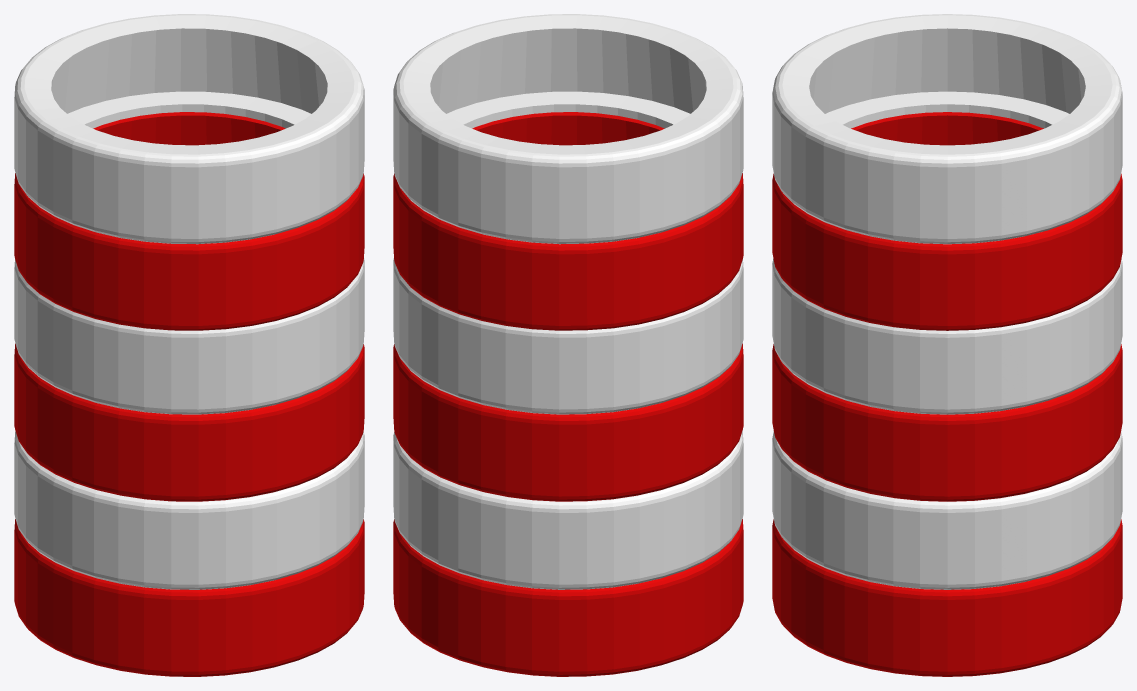
File: tiredecoration.fbx
3 views of the same model, side by side, from view 1: azimuth 30°, elevation 25°; view 2: azimuth 150°, elevation 25°; view 3: azimuth 270°, elevation 25° (orthographic).
Parts seen in each view (by area): view 1: Cube.004, Cube.005, Cube.001, Cube.003, Cube, Cube.002; view 2: Cube.004, Cube.005, Cube.001, Cube.003, Cube, Cube.002; view 3: Cube.004, Cube.005, Cube.001, Cube, Cube.003, Cube.002.
Boxes of the visible parts, left/top/right/bottom form: Cube.004: left=14, top=14, right=364, bottom=244; Cube.005: left=14, top=112, right=364, bottom=330; Cube.001: left=14, top=431, right=364, bottom=589; Cube.003: left=14, top=343, right=364, bottom=501; Cube: left=14, top=519, right=364, bottom=676; Cube.002: left=14, top=258, right=364, bottom=414; Cube.004: left=393, top=14, right=743, bottom=244; Cube.005: left=393, top=112, right=743, bottom=330; Cube.001: left=393, top=431, right=743, bottom=589; Cube.003: left=393, top=343, right=743, bottom=501; Cube: left=393, top=519, right=743, bottom=676; Cube.002: left=393, top=258, right=743, bottom=414; Cube.004: left=772, top=14, right=1122, bottom=244; Cube.005: left=772, top=112, right=1122, bottom=330; Cube.001: left=772, top=431, right=1122, bottom=589; Cube: left=772, top=519, right=1122, bottom=676; Cube.003: left=772, top=344, right=1122, bottom=501; Cube.002: left=772, top=259, right=1122, bottom=414.
Bounding box in the file's own units: 200 × 328 × 200.
